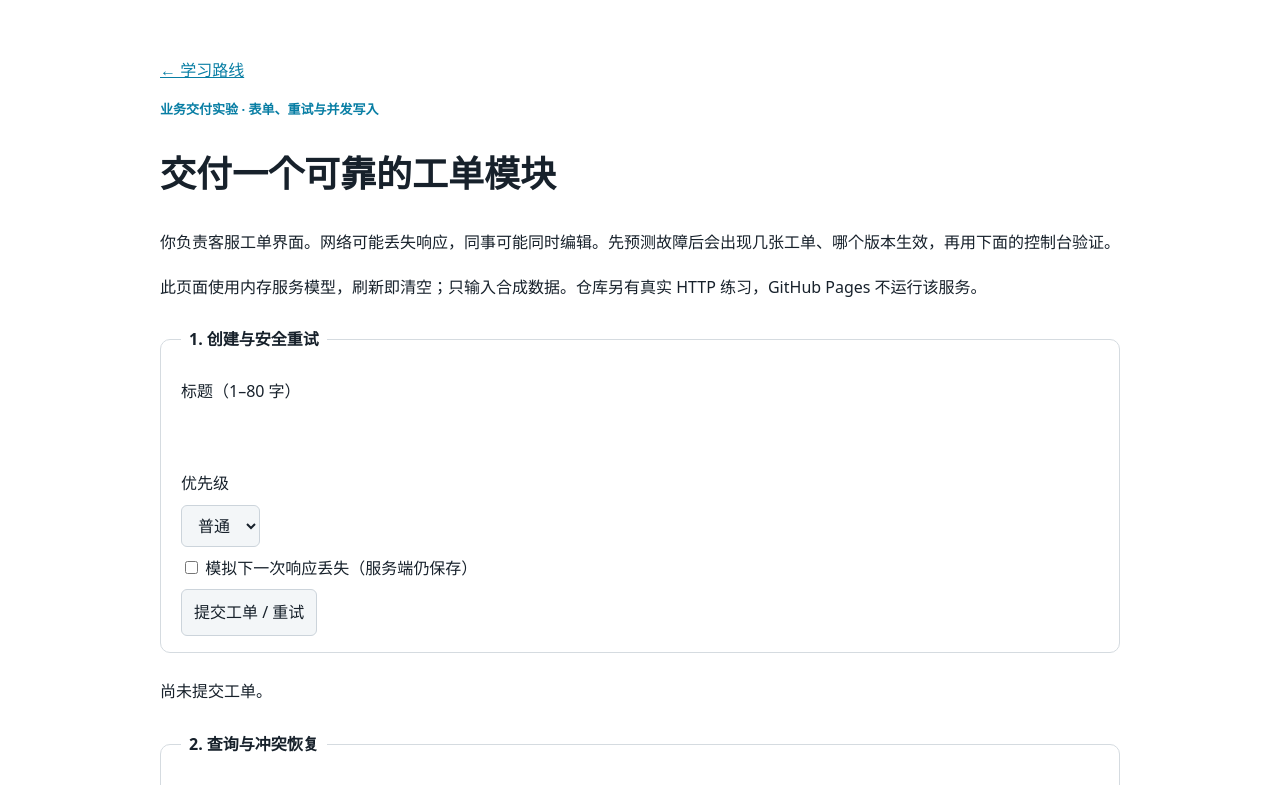
Test: teaching examples enforce observable contracts › business UI retains request intent across response loss and retry
In the field labelled "标题（1–80 字）": (650, 437) [181, 413, 1119, 462], type "测试工单"
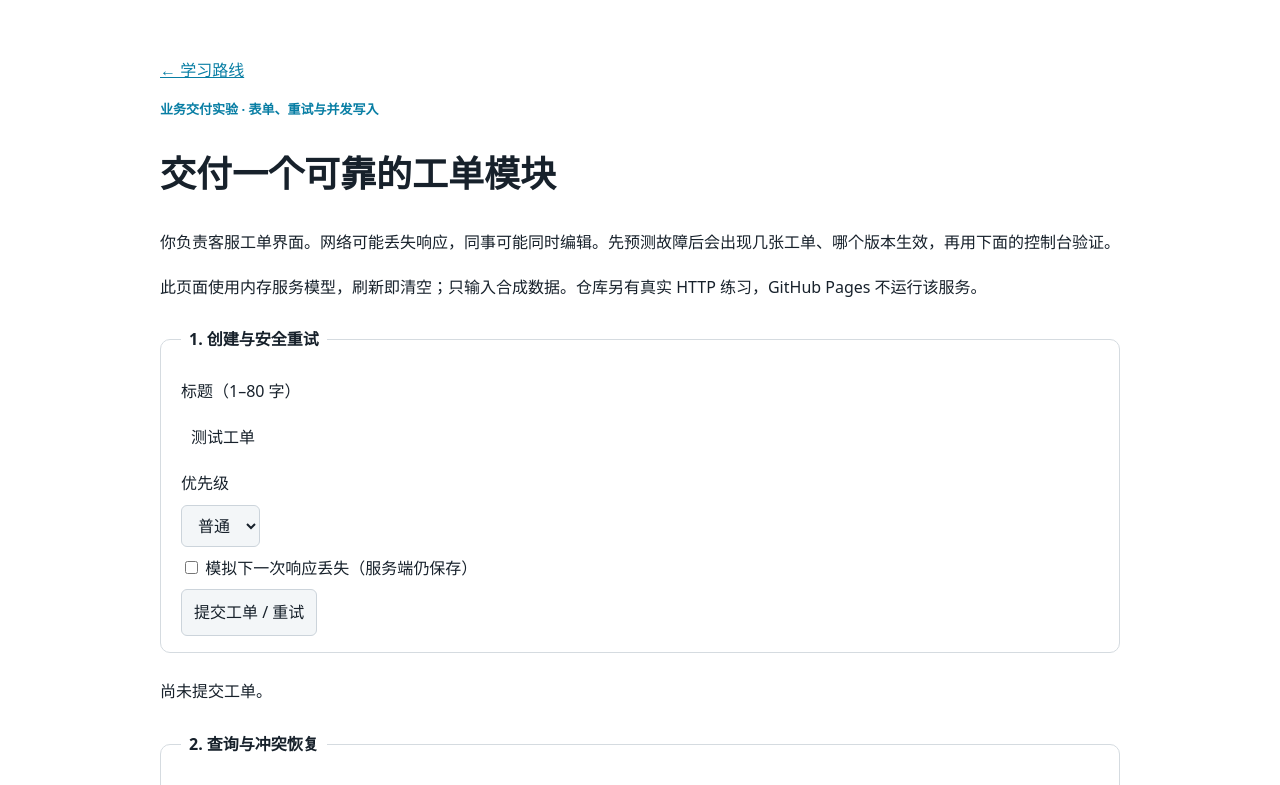
Click the checkbox labelled "模拟下一次响应丢失（服务端仍保存）": (192, 567) [185, 560, 198, 574]
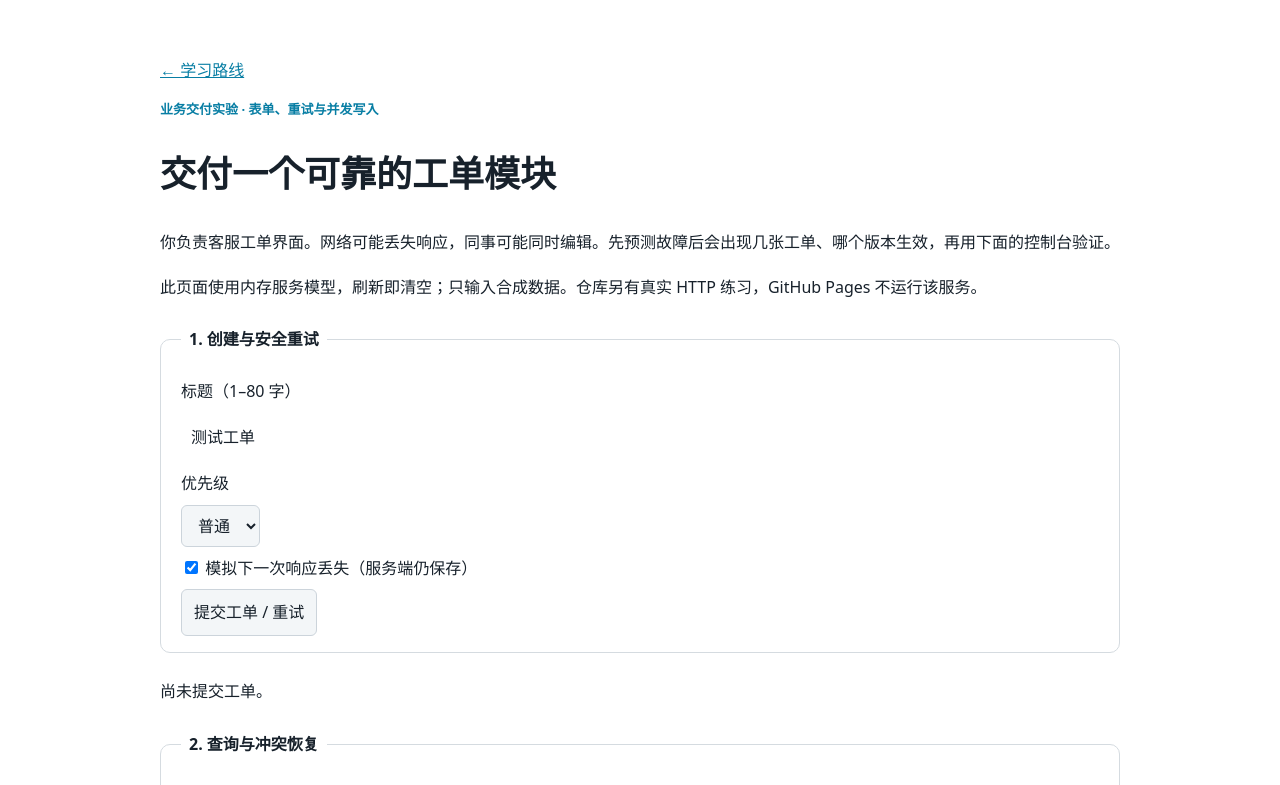
Click the button "提交工单 / 重试": (249, 613) [181, 589, 317, 636]
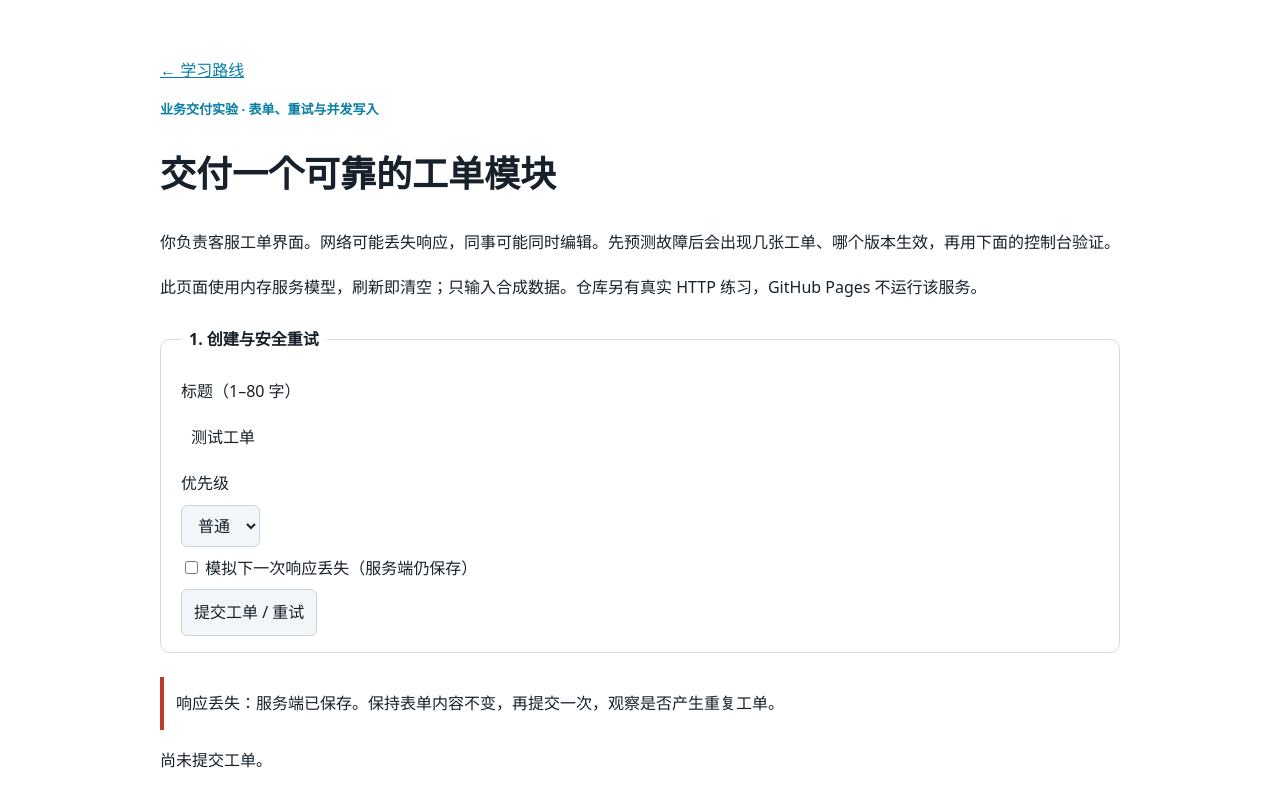
Result: the message "响应丢失：服务端已保存。保持表单内容不变，再提交一次，观察是否产生重复工单。" is shown at [160, 677, 1120, 730]
Click the button "提交工单 / 重试": (249, 613) [181, 589, 317, 636]
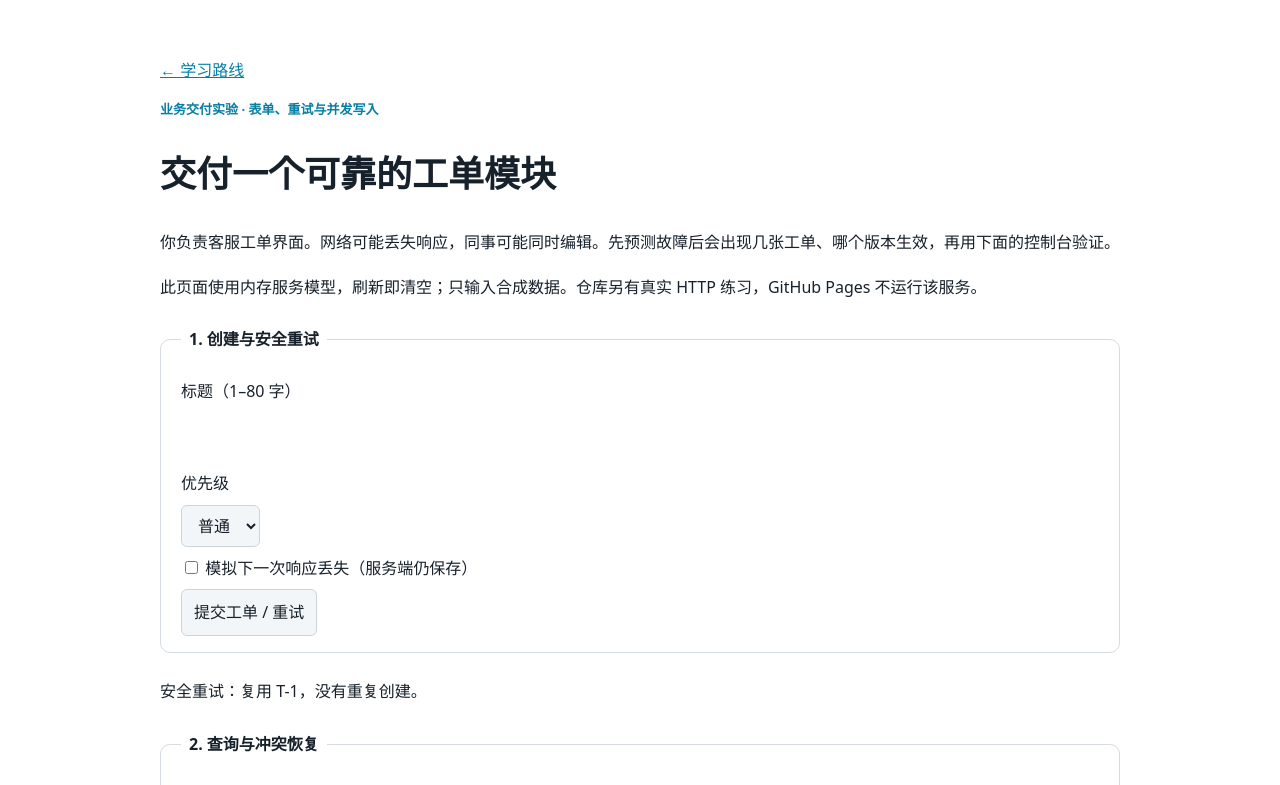
Result: the message shows "没有重复创建" at [160, 680, 427, 702]
